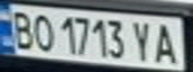1: (54, 12, 75, 54), (90, 16, 109, 57)
3: (106, 16, 130, 60)
7: (72, 13, 90, 55)
A: (151, 20, 184, 65)
B: (6, 7, 36, 51)
O: (30, 10, 57, 53)
Y: (127, 18, 157, 62)
